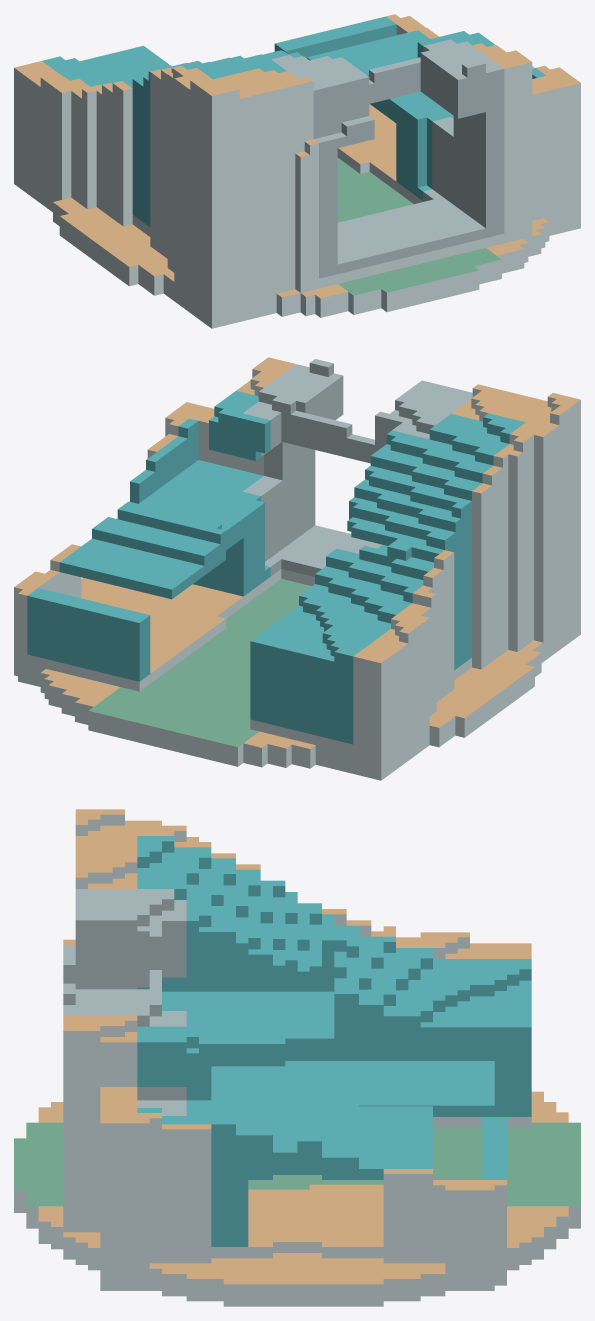
File: a37_inhabited_city.obj
3 views of the same model, one above another, from view 1: azimuth 30°, elevation 25°; view 2: azimuth 150°, elevation 25°; view 3: azimuth 270°, elevation 25° (orthographic). The views are drawn at different scales.
Bounding box in the file's own units: 460 × 240 × 460.
